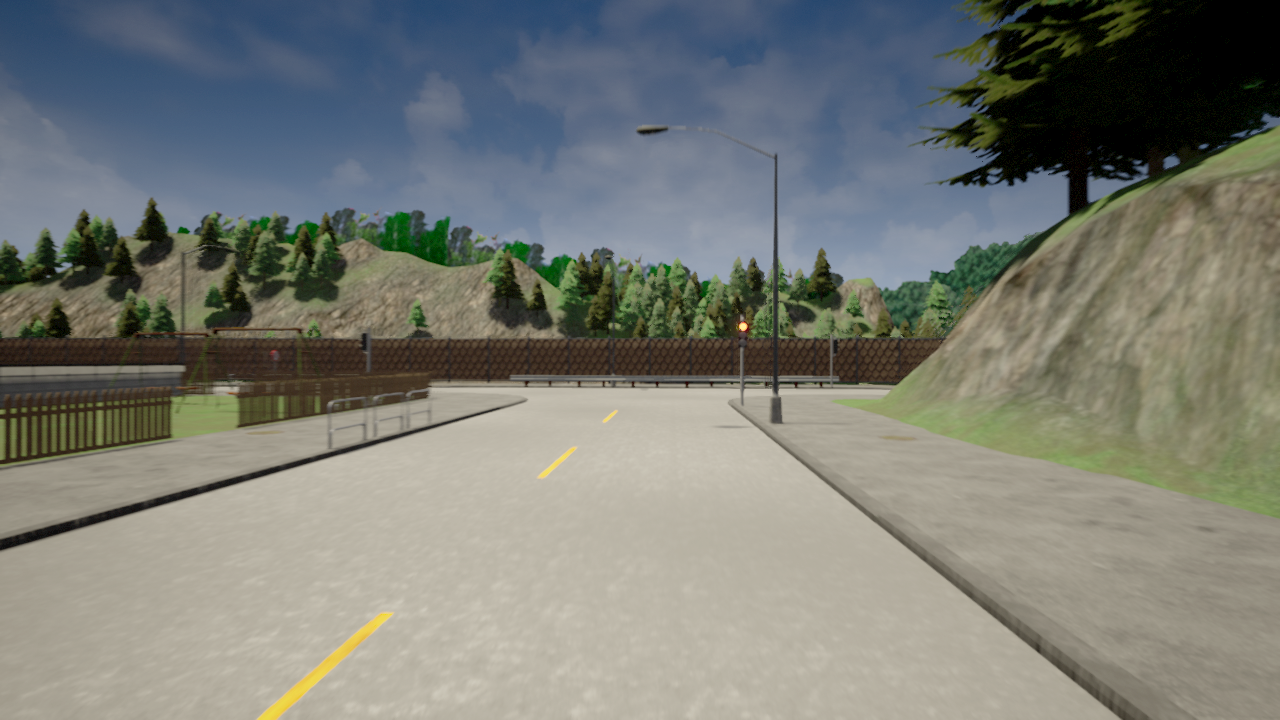red: (738, 320, 749, 349)
